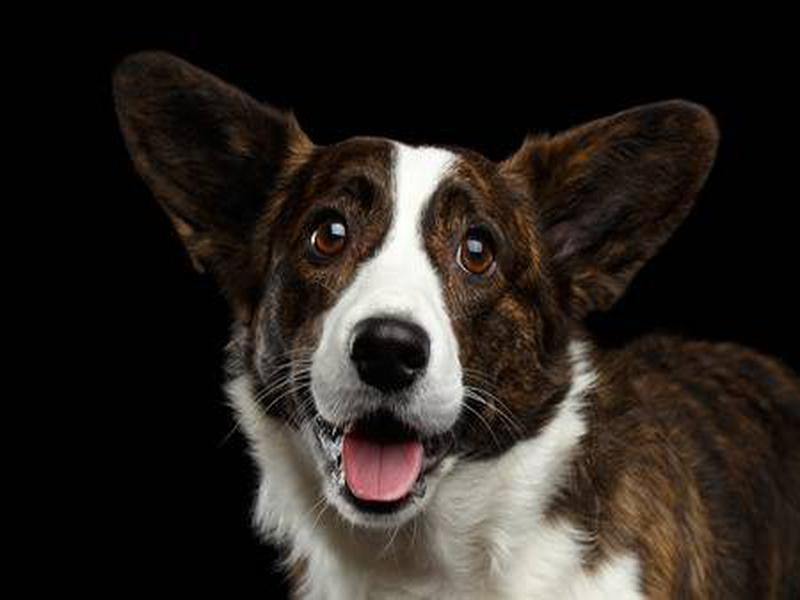corgi: (105, 50, 724, 527)
